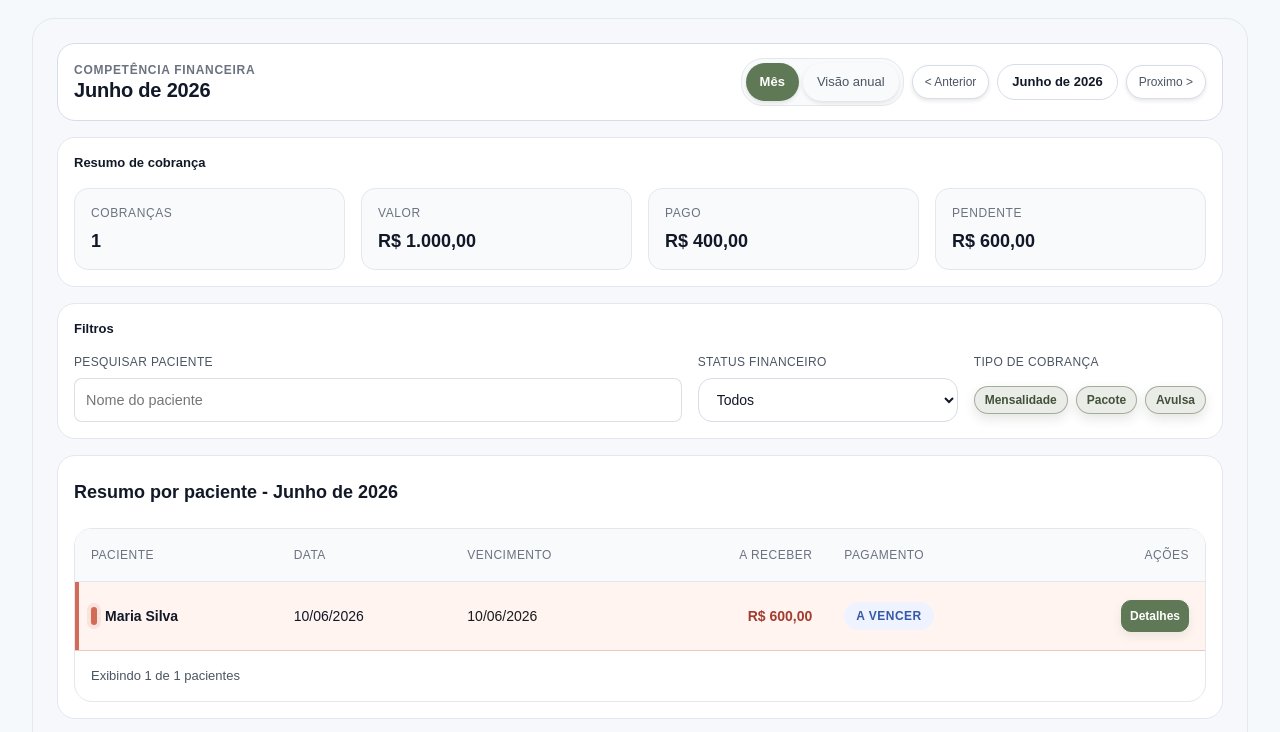
Test: Financeiro - detalhe de receitas por paciente › expande Ver detalhes inline, mantendo a linha do recebimento
Expected: the text "Maria Silva" is shown, [105,608,178,624]
Click the button "Detalhes". click: x=1155, y=616
box: [1121,600,1189,632]
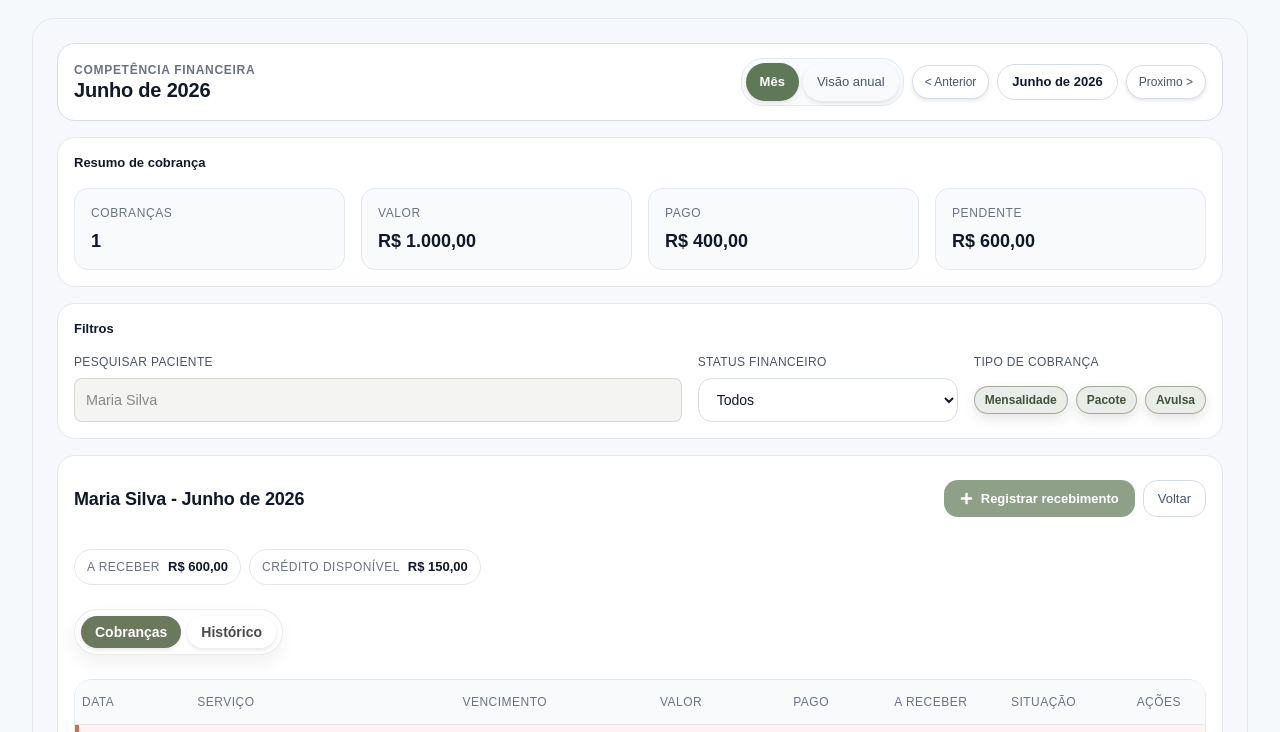
Click the button "Histórico". click: x=232, y=632
box: [187,616,276,648]
(page scrolled)
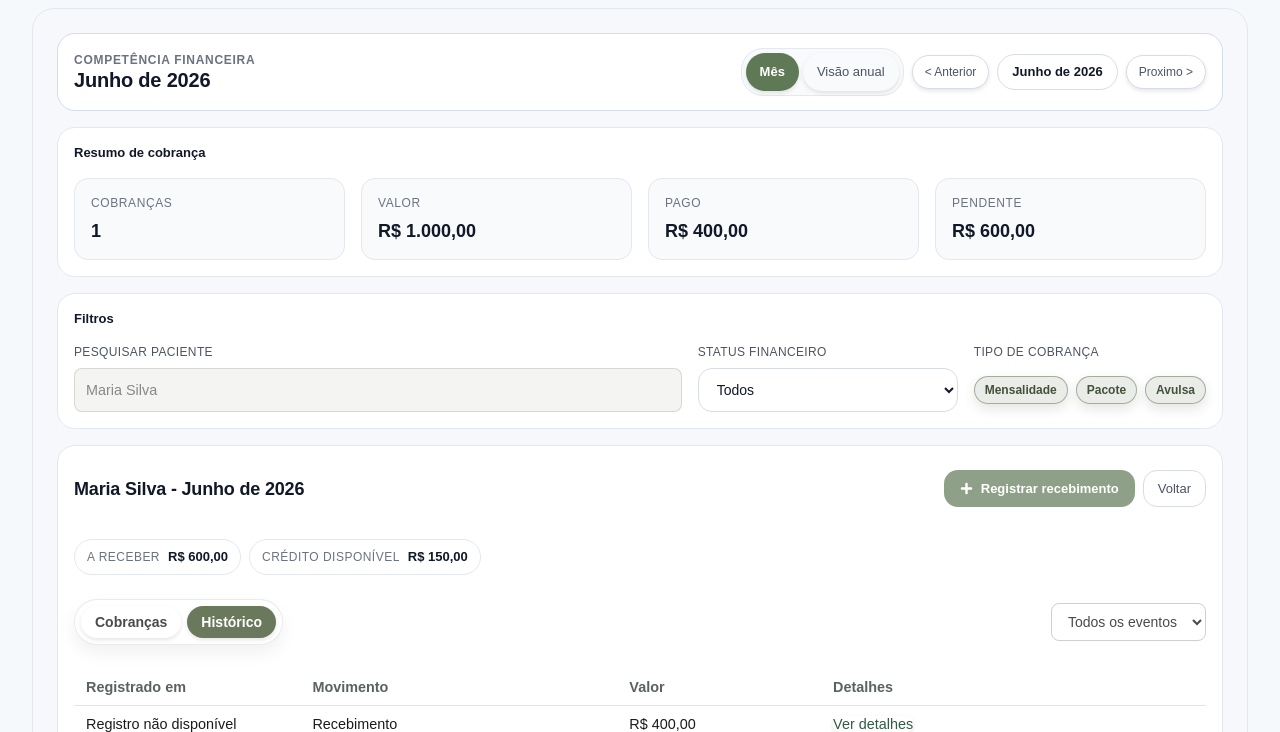
Now the column headings read "Registrado em", "Movimento", "Valor", "Detalhes", in this order, box [74,669,300,706]; [300,669,617,706]; [617,669,821,706]; [821,669,1206,706]
Press Enter
(page scrolled)
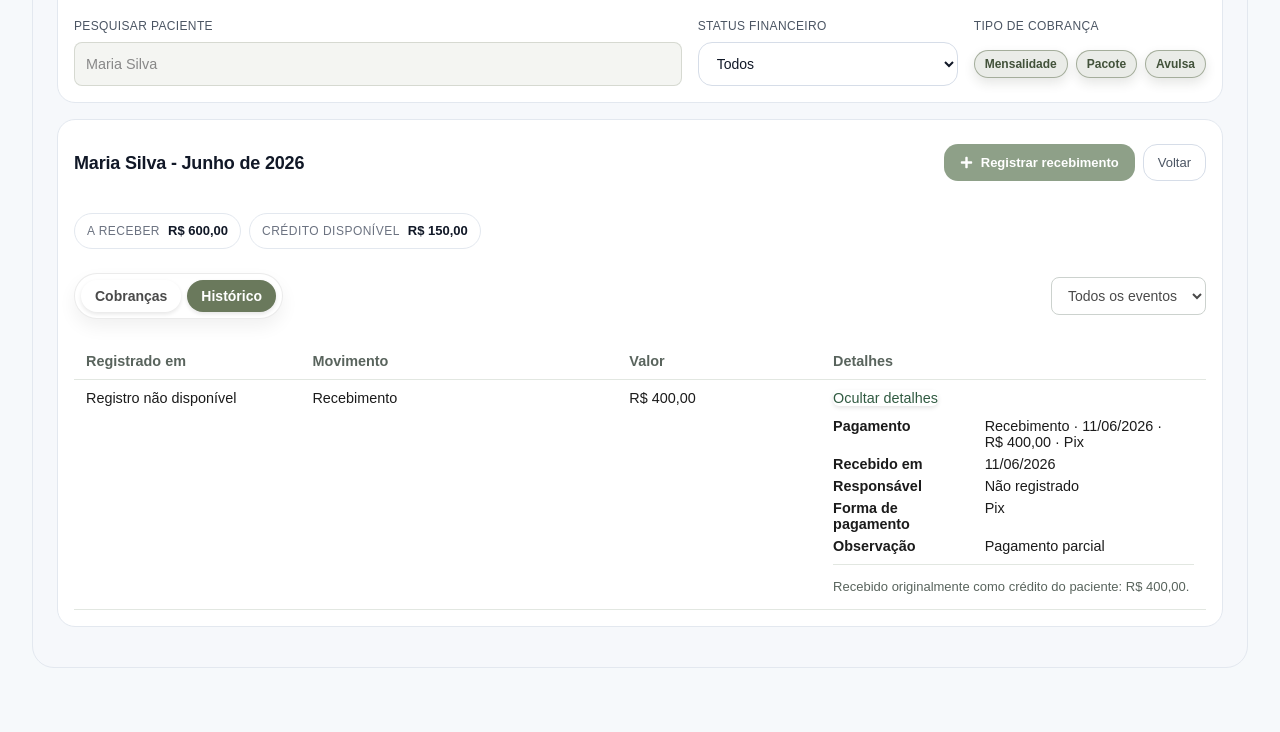
Now the button named "Ver detalhes" is expanded, box [833,390,938,406]
Now the text "Recebido originalmente como crédito do paciente: R$ 400,00." is shown, box [833,577,1194,596]
Now the text "Pagamento parcial" is shown, box [985,538,1105,554]
Type keys " "
(page scrolled)
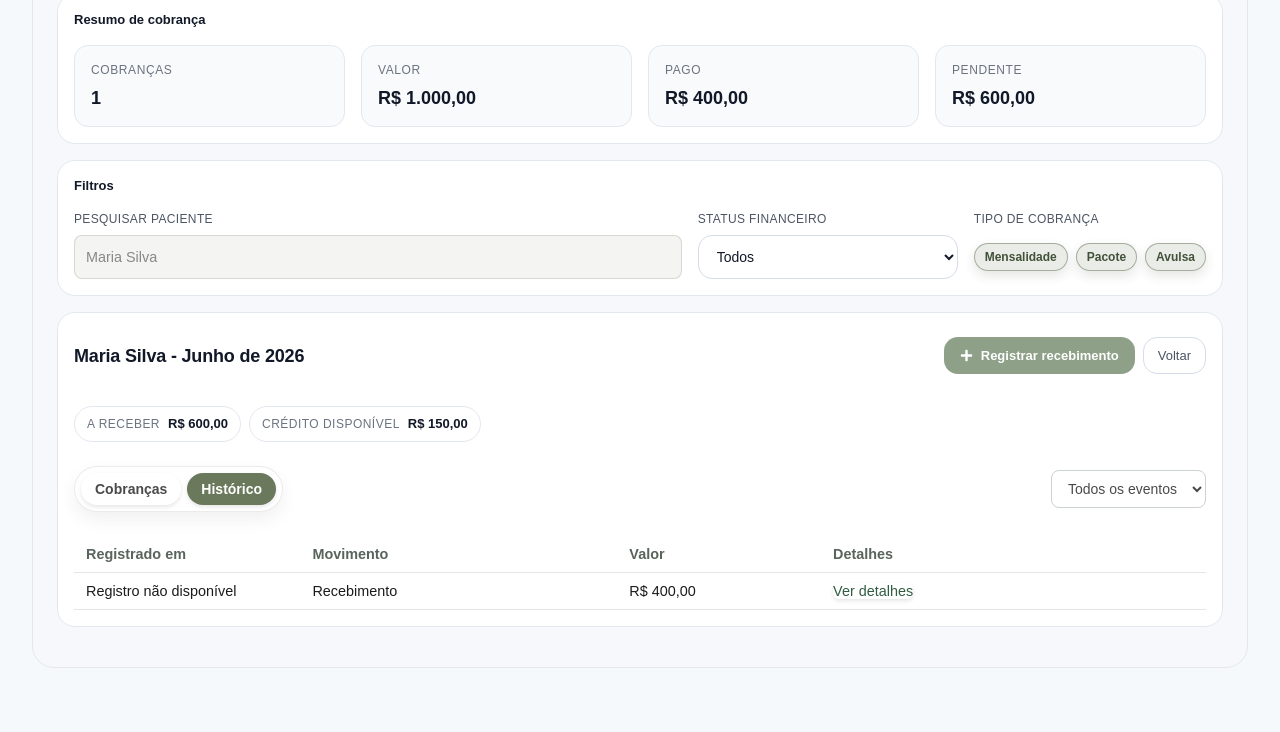
Now the text "Recebido originalmente como crédito" is gone
Now the button "Ver detalhes" is collapsed
Click the button "Ver detalhes". click: x=873, y=591
box: [833,583,913,599]
(page scrolled)
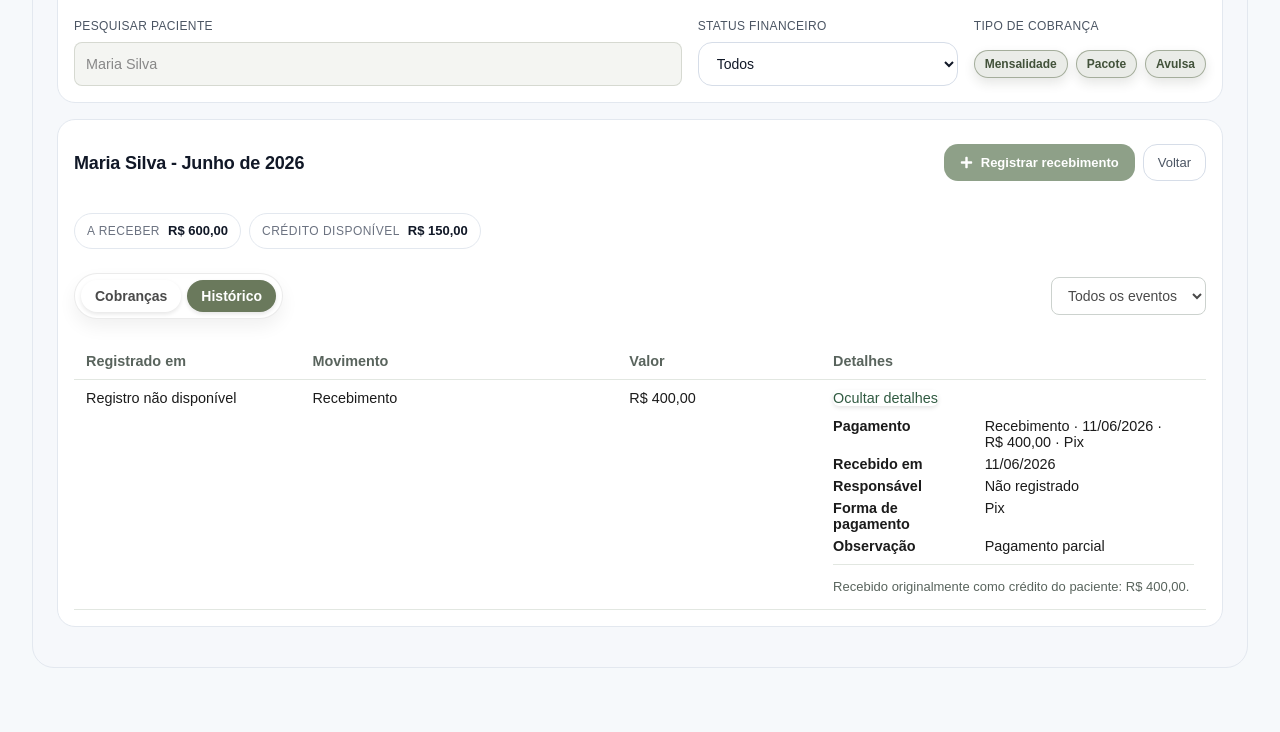
Now the text "Recebido originalmente como crédito do paciente: R$ 400,00." is shown, box [833,577,1194,596]
Click the button "Ocultar detalhes". click: x=886, y=398
box: [833,390,938,406]
(page scrolled)
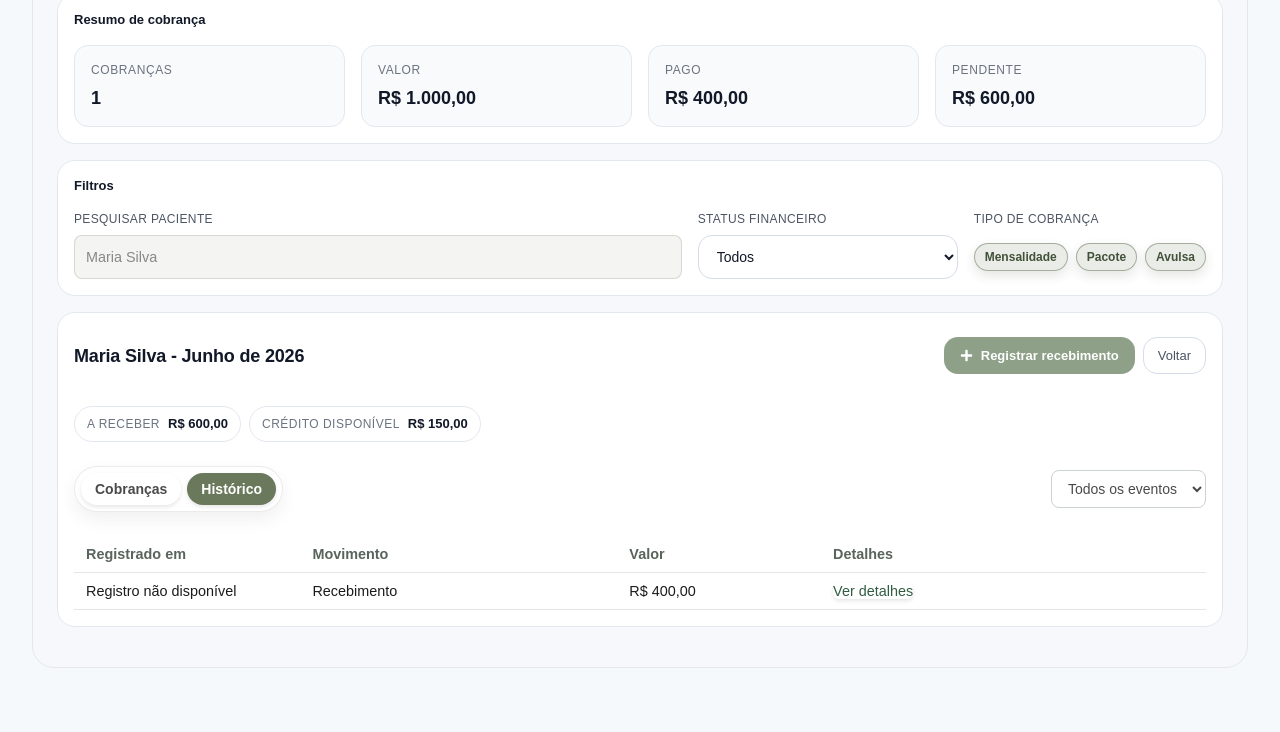
Now the text "Recebido originalmente como crédito" is gone
